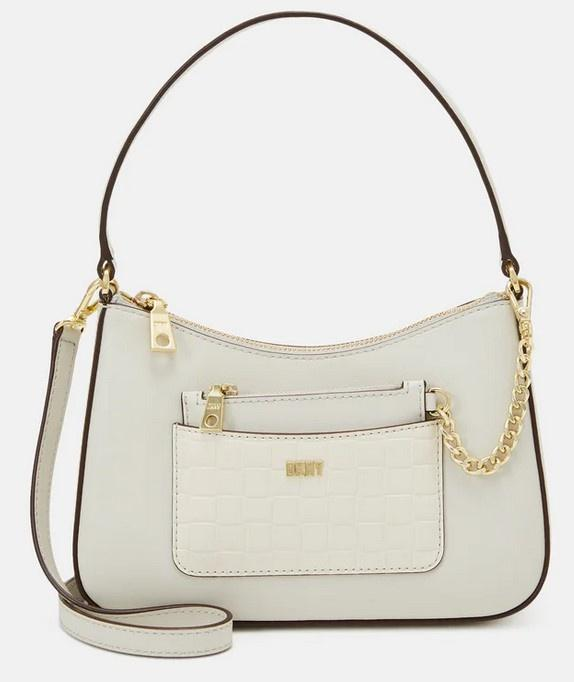DKNY: (286, 460, 324, 477)
